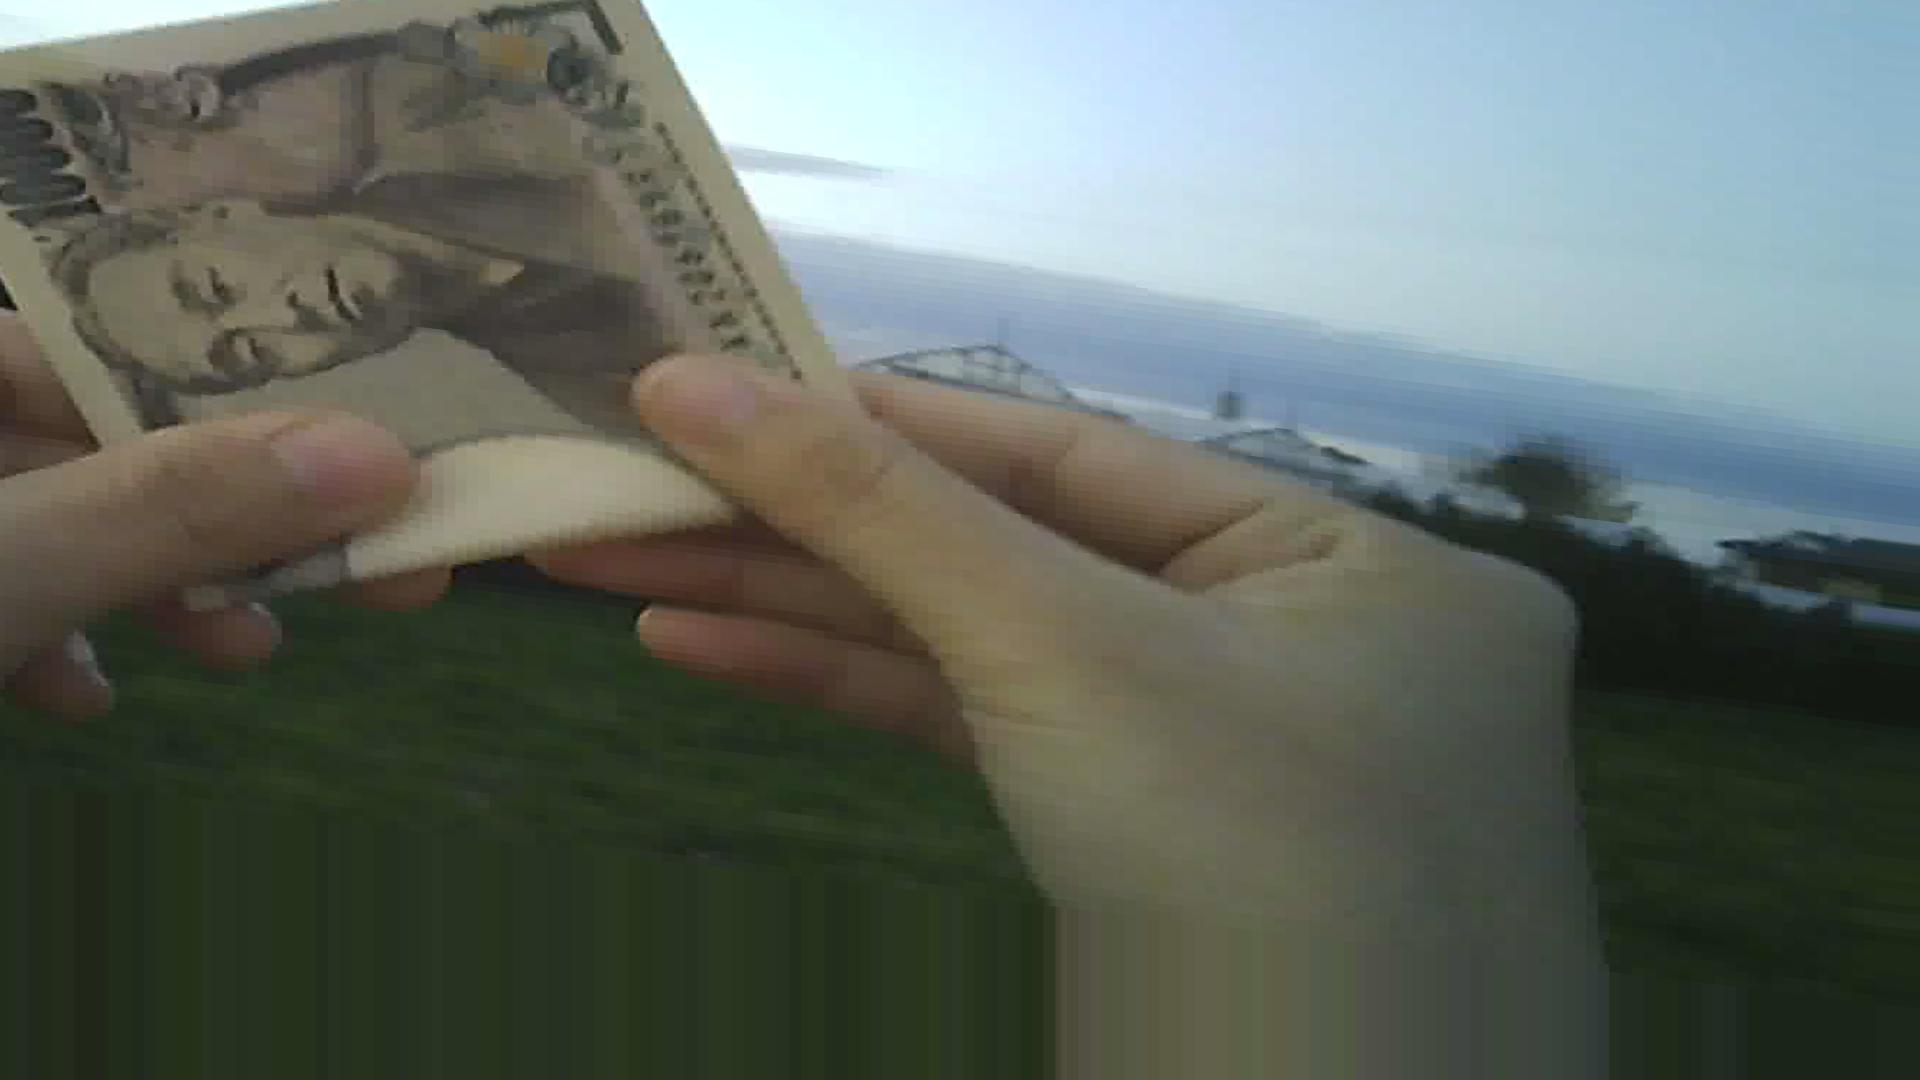10,000 Yen: (7, 26, 844, 576)
